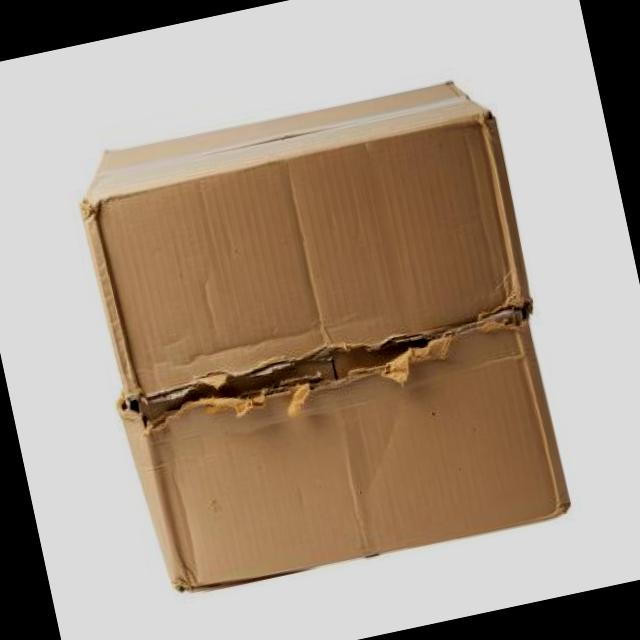carton_box: (43, 36, 624, 634)
package_damage: (99, 270, 566, 461)
